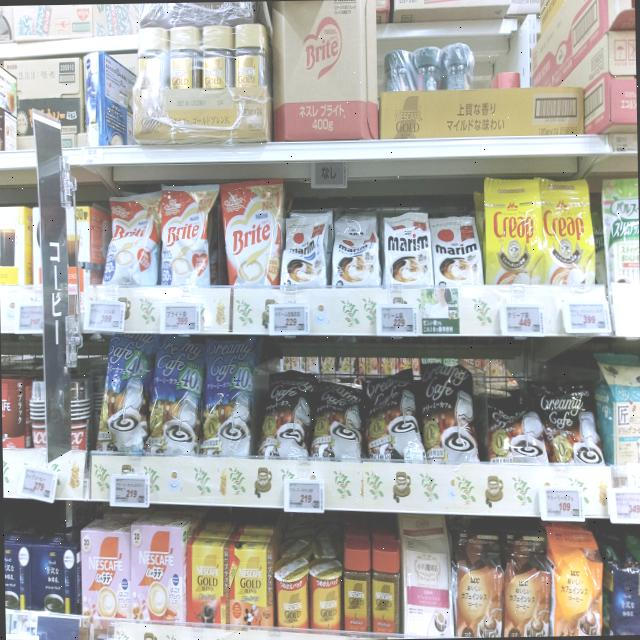objects: (538, 486, 587, 522), (499, 303, 546, 336), (563, 300, 611, 332), (20, 464, 60, 502), (283, 477, 325, 513), (268, 302, 310, 336), (376, 302, 418, 336), (84, 300, 126, 332), (160, 301, 200, 334), (110, 474, 150, 506), (606, 487, 640, 523), (14, 300, 44, 334)
